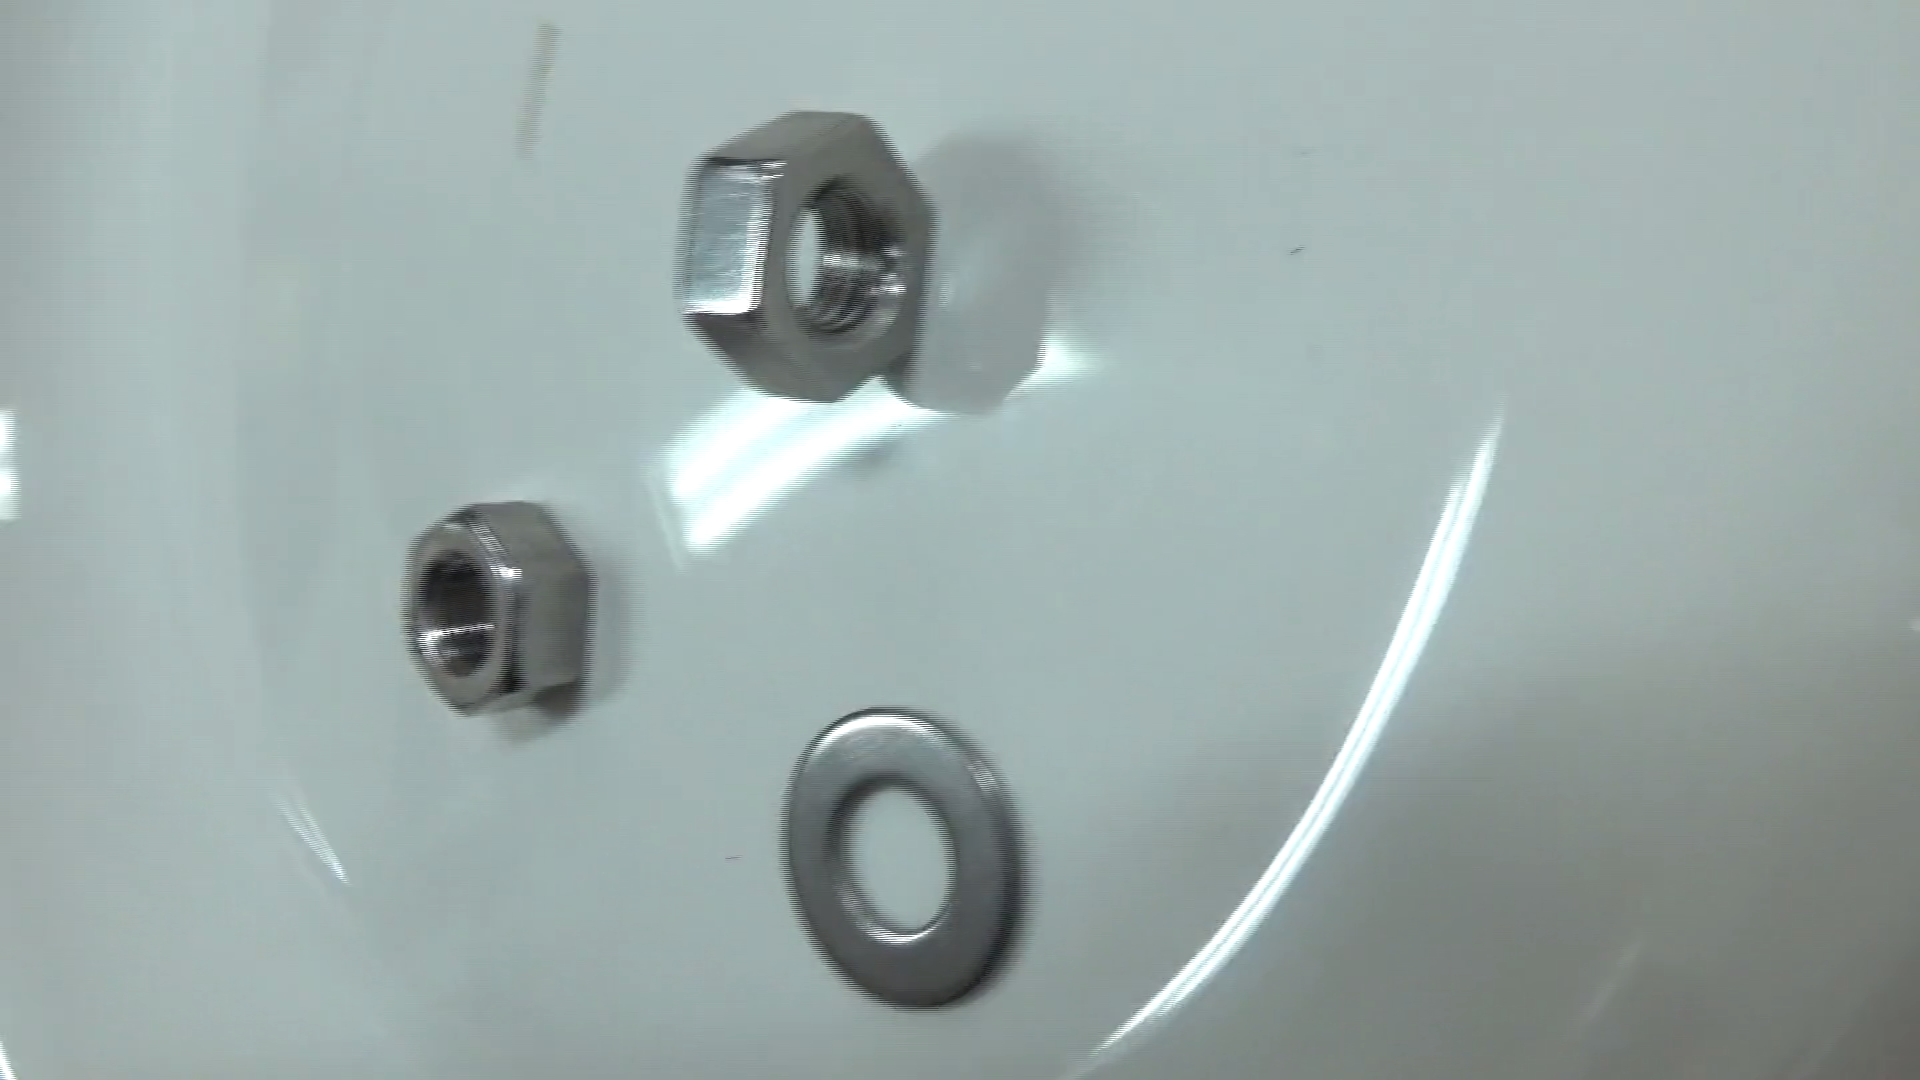nut: (629, 79, 968, 433), (365, 469, 611, 736)
washer: (741, 684, 1043, 1026)
